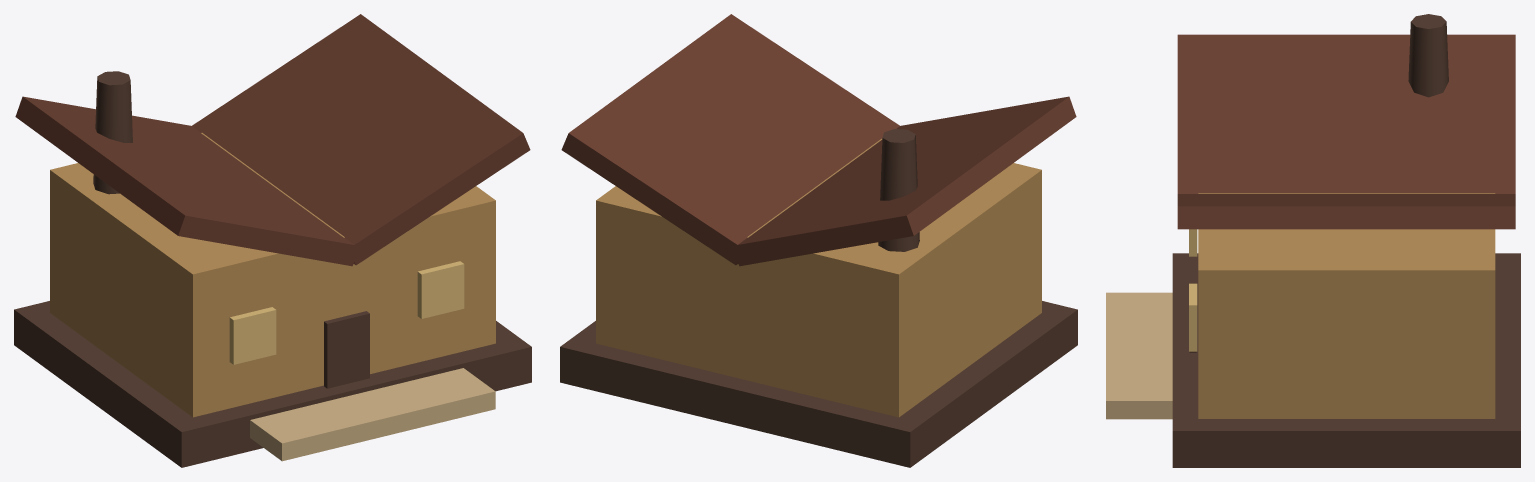
Rendered from adventure_lodge.glb.
The picture shows the model from 3 angles, left to right: view 1: azimuth 30°, elevation 25°; view 2: azimuth 150°, elevation 25°; view 3: azimuth 270°, elevation 25°; orthographic projection. The views are drawn at different scales.
Parts seen in each view (by area): view 1: main_body, roof_right, roof_left, foundation, porch, door, chimney, window_-22, window_22; view 2: main_body, roof_right, foundation, roof_left, chimney; view 3: main_body, roof_left, foundation, roof_right, porch, chimney, window_22.
Boxes of the visible parts, left/top/right/bottom form: main_body: left=50, top=133, right=495, bottom=417; roof_right: left=192, top=14, right=530, bottom=265; roof_left: left=15, top=96, right=358, bottom=266; foundation: left=14, top=301, right=531, bottom=467; porch: left=250, top=368, right=495, bottom=461; door: left=324, top=311, right=369, bottom=388; chimney: left=93, top=71, right=132, bottom=194; window_-22: left=229, top=307, right=276, bottom=364; window_22: left=417, top=261, right=464, bottom=318; main_body: left=596, top=138, right=1041, bottom=417; roof_right: left=561, top=14, right=899, bottom=265; foundation: left=560, top=301, right=1077, bottom=467; roof_left: left=732, top=96, right=1076, bottom=266; chimney: left=878, top=129, right=919, bottom=251; main_body: left=1198, top=193, right=1495, bottom=418; roof_left: left=1177, top=34, right=1515, bottom=193; foundation: left=1172, top=253, right=1520, bottom=467; roof_right: left=1177, top=194, right=1515, bottom=229; porch: left=1106, top=292, right=1172, bottom=419; chimney: left=1408, top=14, right=1448, bottom=97; window_22: left=1189, top=283, right=1197, bottom=351.
Bounding box in the file's own units: 8.25 × 6.4 × 8.1.
